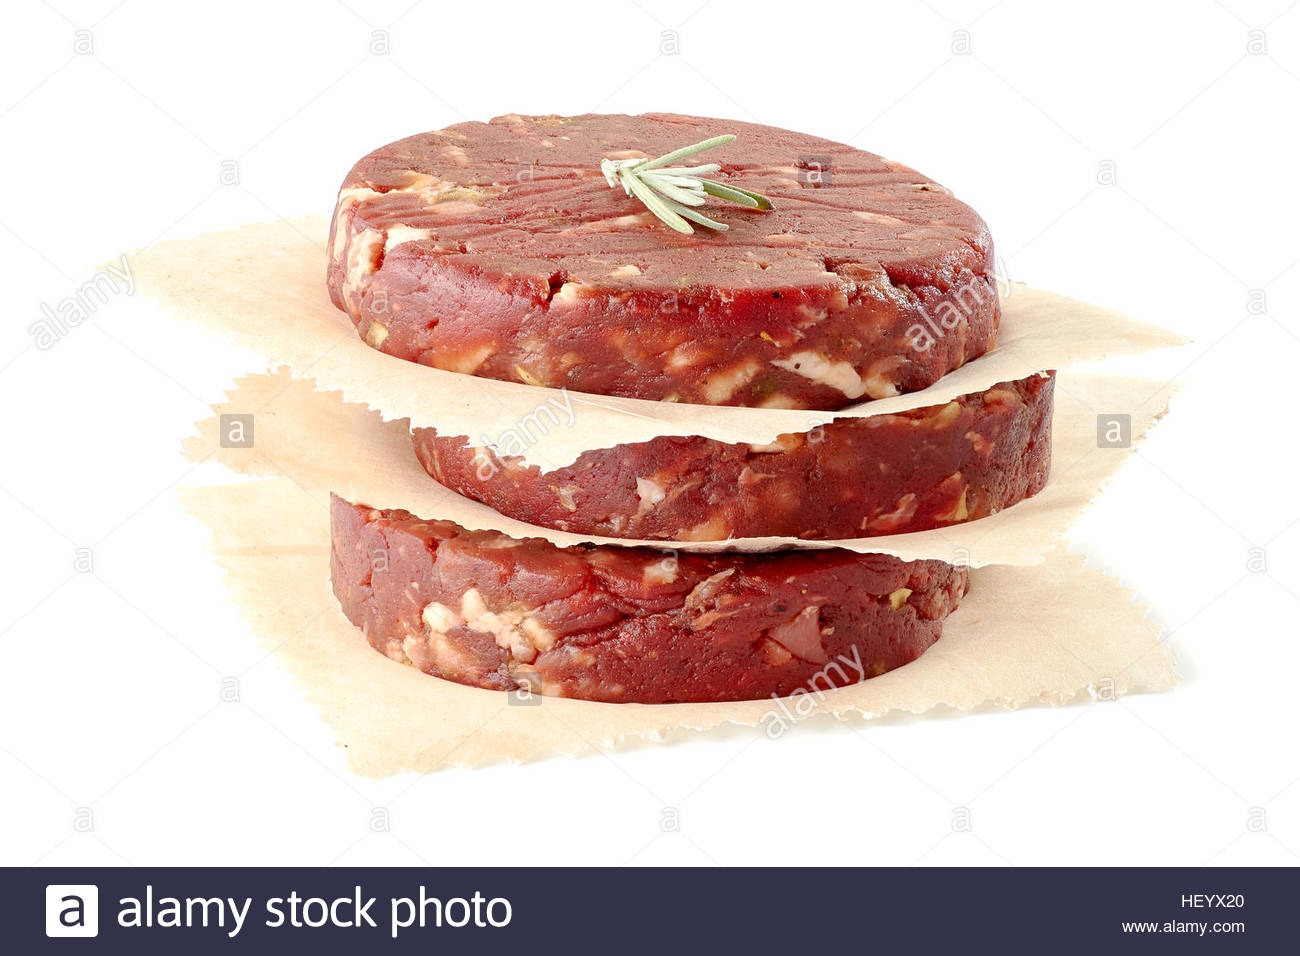ground_beef: (304, 82, 1008, 719)
